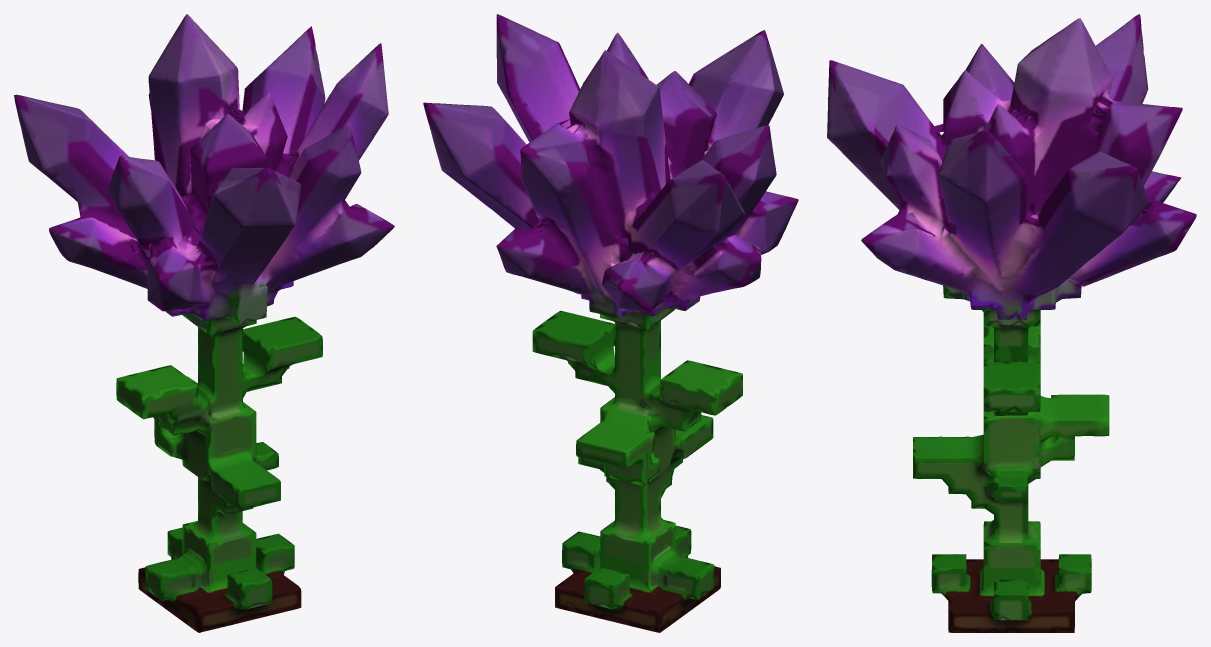
The model's file is crystal_flower.fbx.
3 renders of one model, left to right at view 1: azimuth 30°, elevation 25°; view 2: azimuth 150°, elevation 25°; view 3: azimuth 270°, elevation 25°, orthographic. The views are drawn at different scales.
Visible parts, largest first — view 1: CrystalFlower; view 2: CrystalFlower; view 3: CrystalFlower.
Boxes of the visible parts, bbox=[...] form: CrystalFlower: bbox=[14, 14, 394, 632]; CrystalFlower: bbox=[423, 14, 798, 632]; CrystalFlower: bbox=[827, 14, 1196, 632].
Size of the model in its own units: 9.97 by 18 by 10.25.
1 material, 1 textured.
